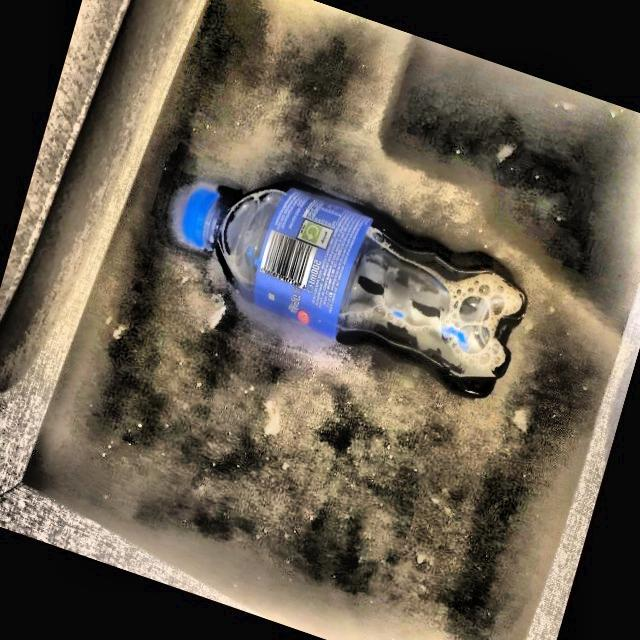pepsi-bottle: (173, 175, 527, 396)
